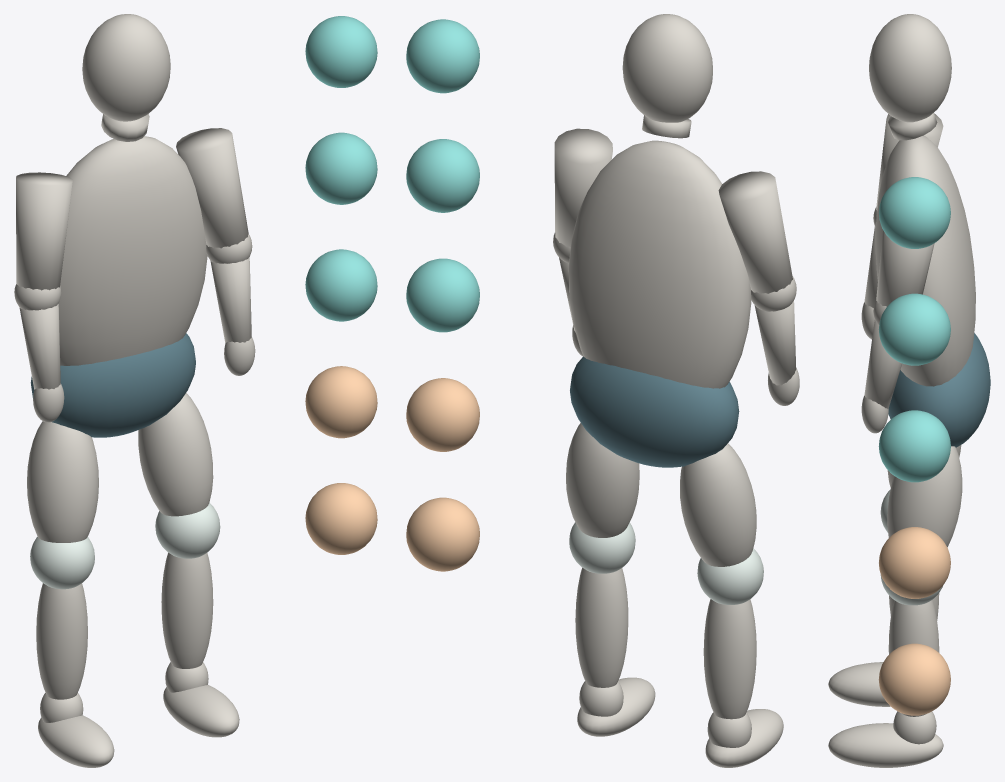
The model's file is assessment-abcde.glb.
3 views of the same model, side by side, from view 1: azimuth 30°, elevation 25°; view 2: azimuth 150°, elevation 25°; view 3: azimuth 270°, elevation 25° (orthographic). The views are drawn at different scales.
Visible parts, largest first — view 1: static #eee5d3, static #49bdb4, static #203c48, static #f2a066, static #c7ddd2; view 2: static #eee5d3, static #49bdb4, static #203c48, static #f2a066, static #c7ddd2; view 3: static #eee5d3, static #49bdb4, static #f2a066, static #203c48, static #c7ddd2.
Part boxes in pixels (x1=…): static #eee5d3: x1=14, y1=14, x2=255, y2=767; static #49bdb4: x1=305, y1=16, x2=377, y2=321; static #203c48: x1=30, y1=333, x2=195, y2=437; static #f2a066: x1=305, y1=366, x2=377, y2=554; static #c7ddd2: x1=30, y1=503, x2=220, y2=589; static #eee5d3: x1=553, y1=14, x2=799, y2=767; static #49bdb4: x1=406, y1=19, x2=479, y2=332; static #203c48: x1=570, y1=356, x2=739, y2=467; static #f2a066: x1=406, y1=378, x2=479, y2=571; static #c7ddd2: x1=569, y1=522, x2=763, y2=604; static #eee5d3: x1=828, y1=14, x2=975, y2=767; static #49bdb4: x1=878, y1=177, x2=950, y2=482; static #f2a066: x1=878, y1=527, x2=950, y2=715; static #203c48: x1=888, y1=333, x2=990, y2=447; static #c7ddd2: x1=880, y1=489, x2=942, y2=605.
Size of the model in its own units: 0.1862 by 0.35 by 0.072.
